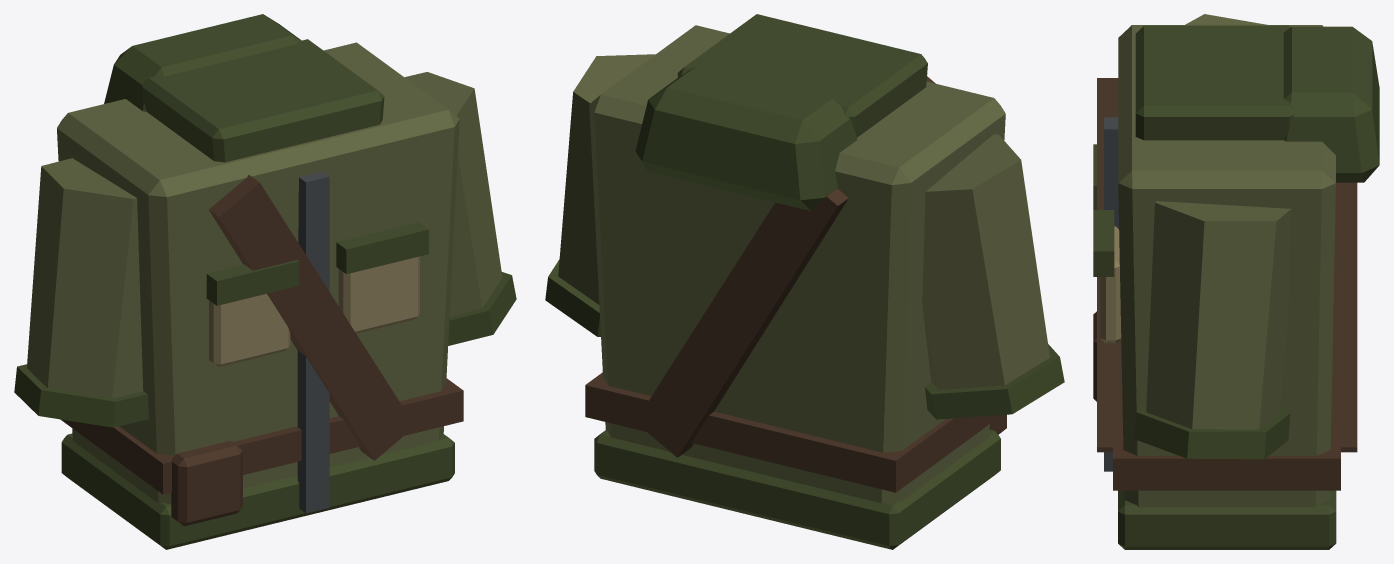
Rendered from item_scout_jacket.glb.
The picture shows the model from 3 angles, left to right: view 1: azimuth 30°, elevation 25°; view 2: azimuth 150°, elevation 25°; view 3: azimuth 270°, elevation 25°; orthographic projection. The views are drawn at different scales.
Visible parts, largest first — view 1: scout_jacket; view 2: scout_jacket; view 3: scout_jacket.
Boxes of the visible parts, x1,y1,x2,y2 form: scout_jacket: [14, 14, 516, 549]; scout_jacket: [545, 14, 1064, 549]; scout_jacket: [1093, 14, 1379, 549].
Size of the model in its own units: 0.8117 by 0.657 by 0.4068.
